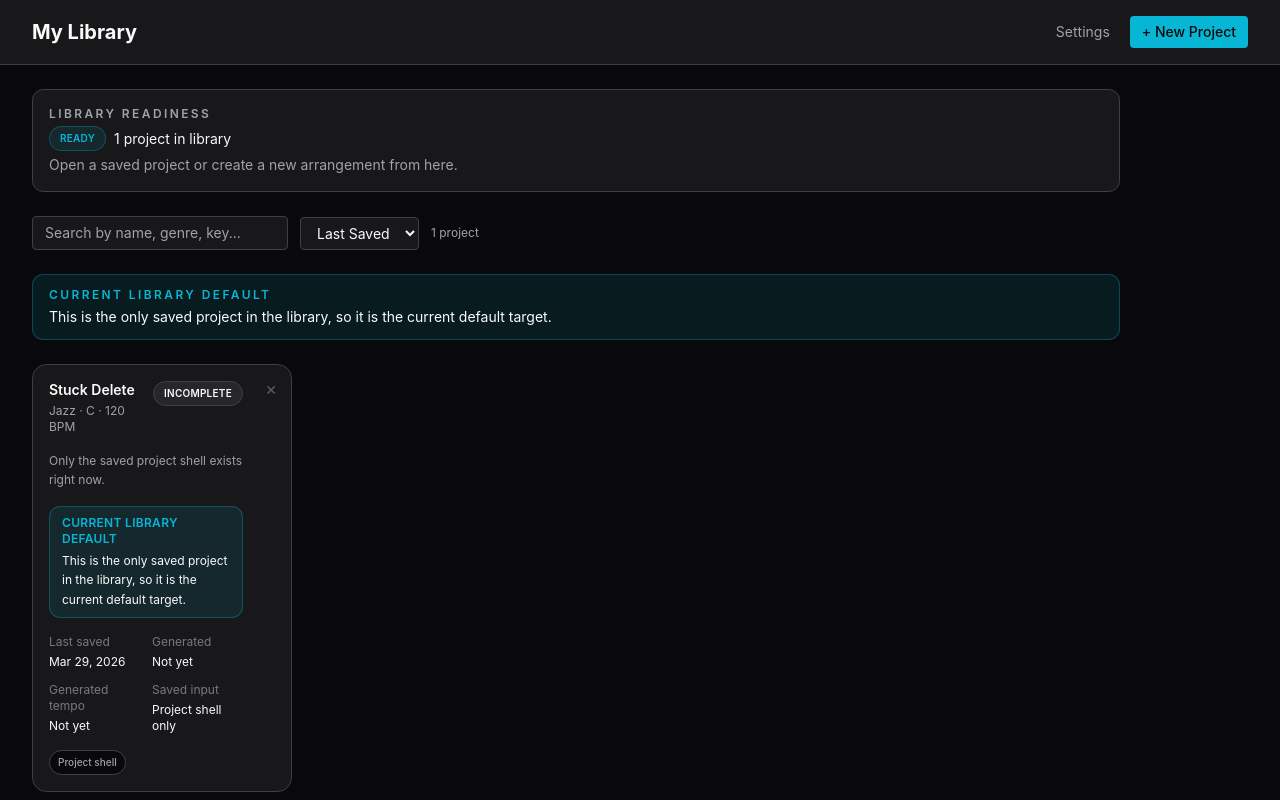
LibraryPage › keeps the project visible and identifies delete failure truth when the removal does not persist
Click the button named "Delete Stuck Delete" at (271, 390), box [263,377,279,402]
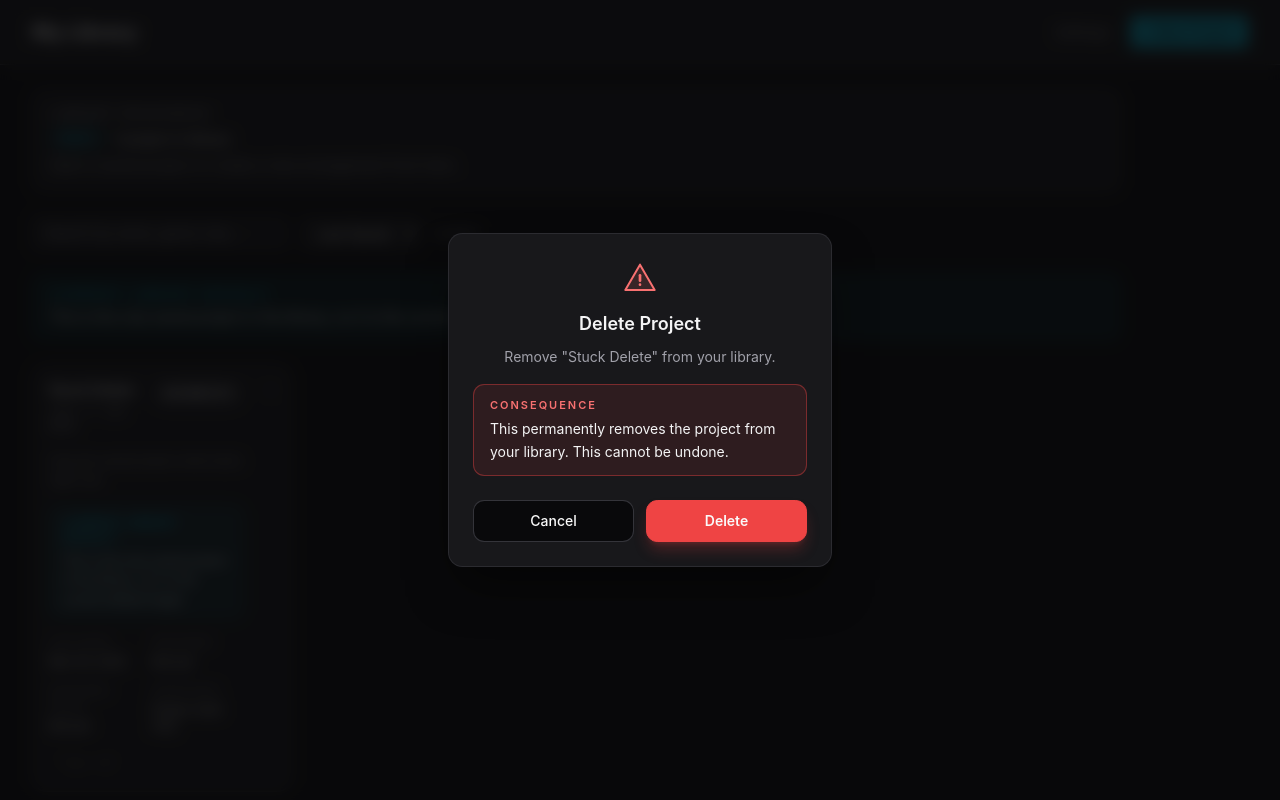
Check: the button "Delete" is shown
Click the button "Delete" at (726, 521), box [646,500,807,542]
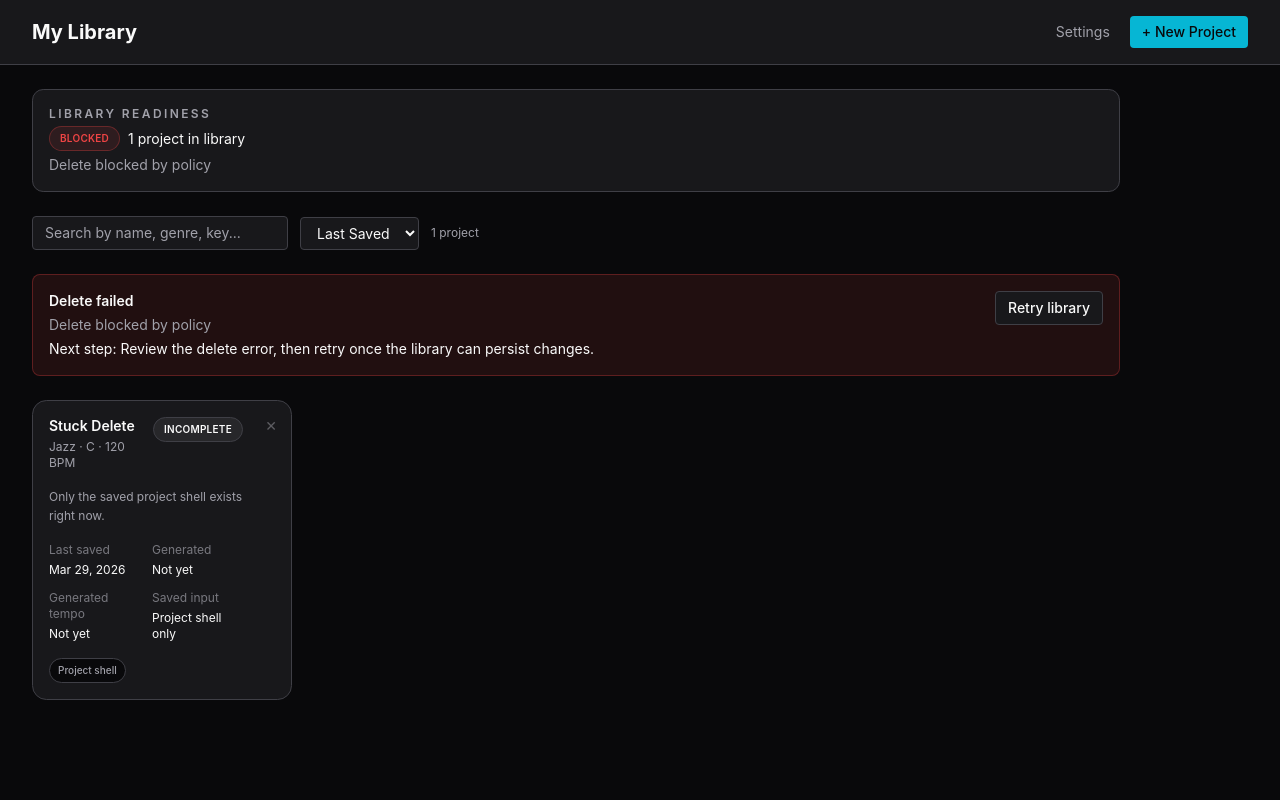
Check: the text "Delete failed" is shown, box [49,292,134,309]
Check: the text "Delete blocked by policy" is shown, box [49,156,211,173]
Check: the text "Next step: Review the delete error, then retry once the library can persist changes." is shown, box [49,339,594,359]
